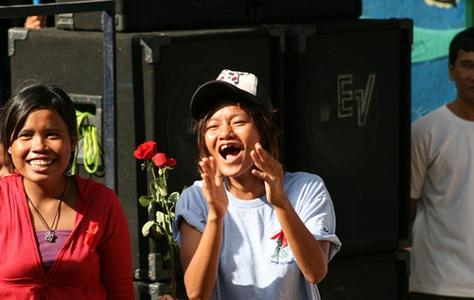person: (172, 70, 343, 300)
